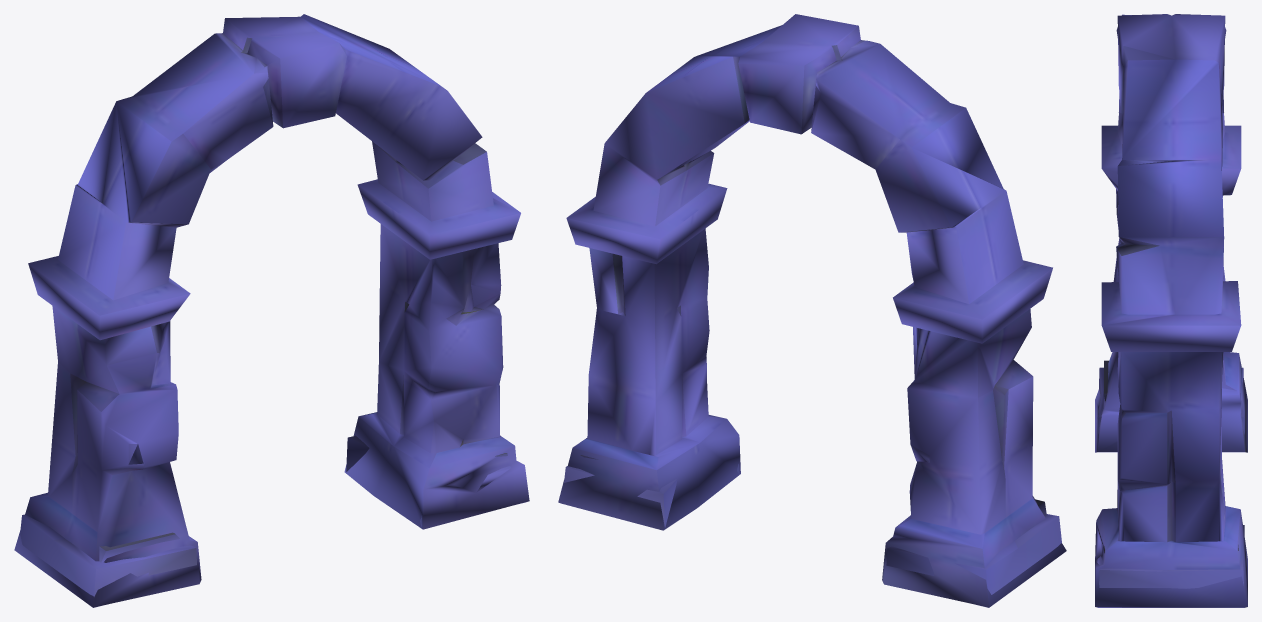
Rendered from model.progressive.glb.
3 renders of one model, left to right at view 1: azimuth 30°, elevation 25°; view 2: azimuth 150°, elevation 25°; view 3: azimuth 270°, elevation 25°, orthographic. The views are drawn at different scales.
Visible parts, largest first — view 1: material; view 2: material; view 3: material.
Part boxes in pixels (box(x1,y1,x2,y2)): material: box(14, 14, 529, 607); material: box(558, 14, 1066, 607); material: box(1095, 14, 1247, 607).
Size of the model in its own units: 1.74 by 1.88 by 0.5409.
Materials: 1 (1 with a texture image).
